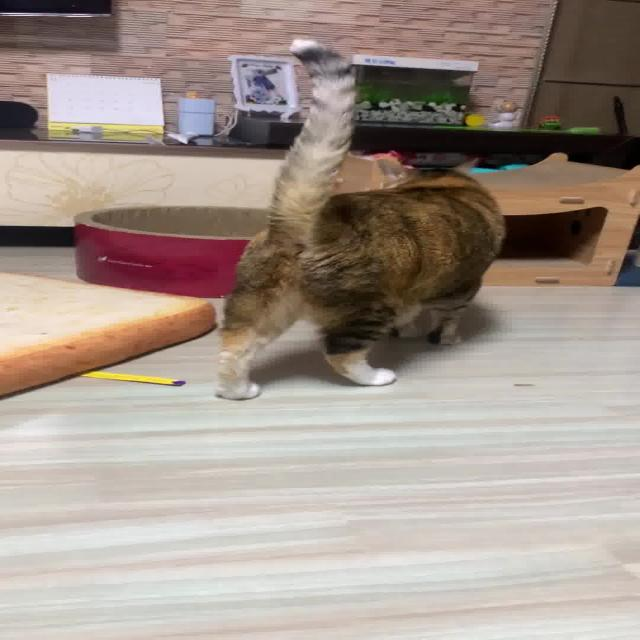cat: (191, 29, 519, 415)
